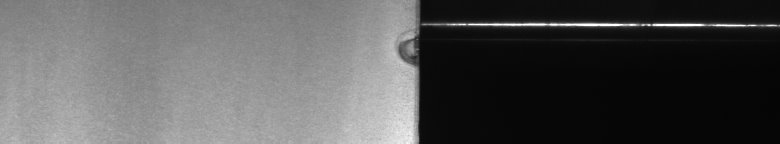hb: (389, 30, 408, 71)
